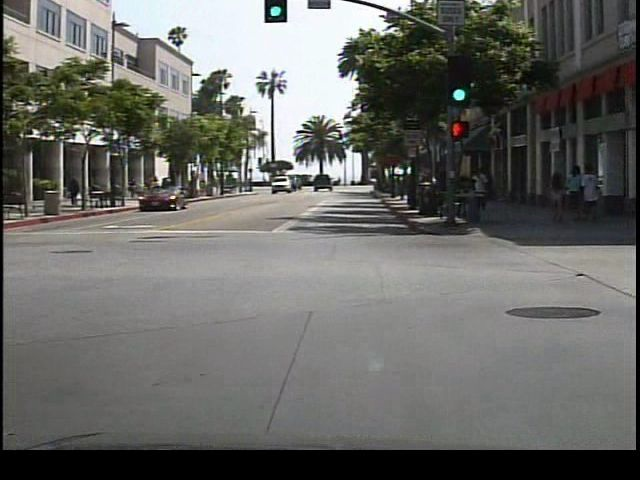person: (474, 162, 501, 216), (70, 172, 88, 209)
